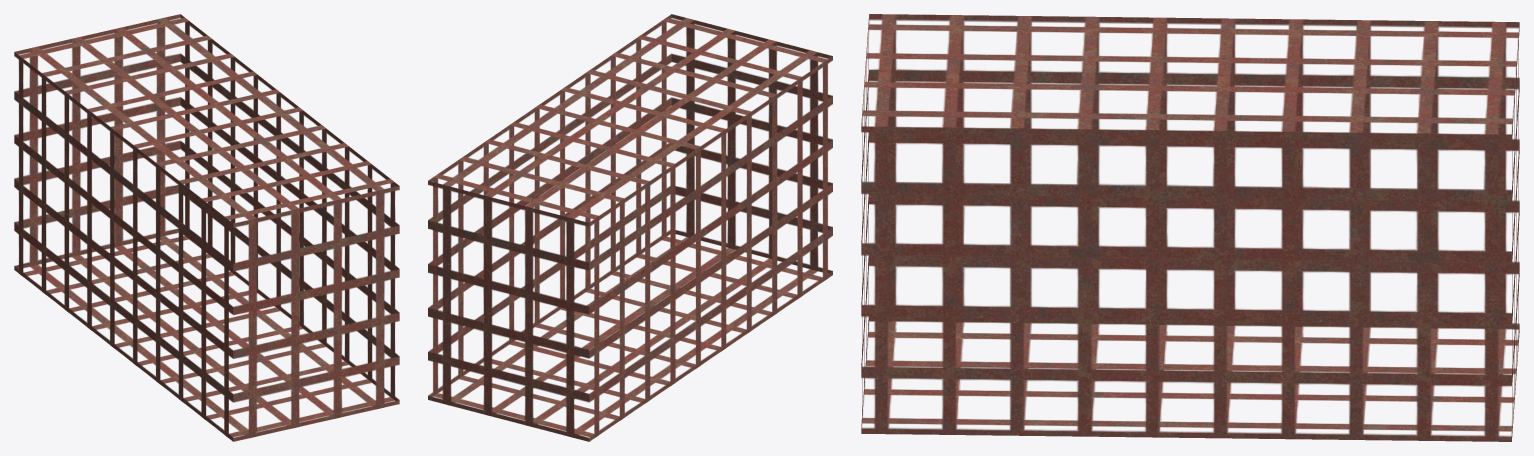
Rendered from cages_long_scenic.glb.
3 renders of one model, left to right at view 1: azimuth 30°, elevation 25°; view 2: azimuth 150°, elevation 25°; view 3: azimuth 270°, elevation 25°, orthographic. The views are drawn at different scales.
Visible parts, largest first — view 1: cages_long_scenic_Baked; view 2: cages_long_scenic_Baked; view 3: cages_long_scenic_Baked.
Part boxes in pixels (bbox=[...]): cages_long_scenic_Baked: bbox=[14, 14, 399, 441]; cages_long_scenic_Baked: bbox=[428, 14, 832, 441]; cages_long_scenic_Baked: bbox=[861, 14, 1519, 441].
Size of the model in its own units: 0.8405 by 1 by 1.94.
1 material, 1 textured.
